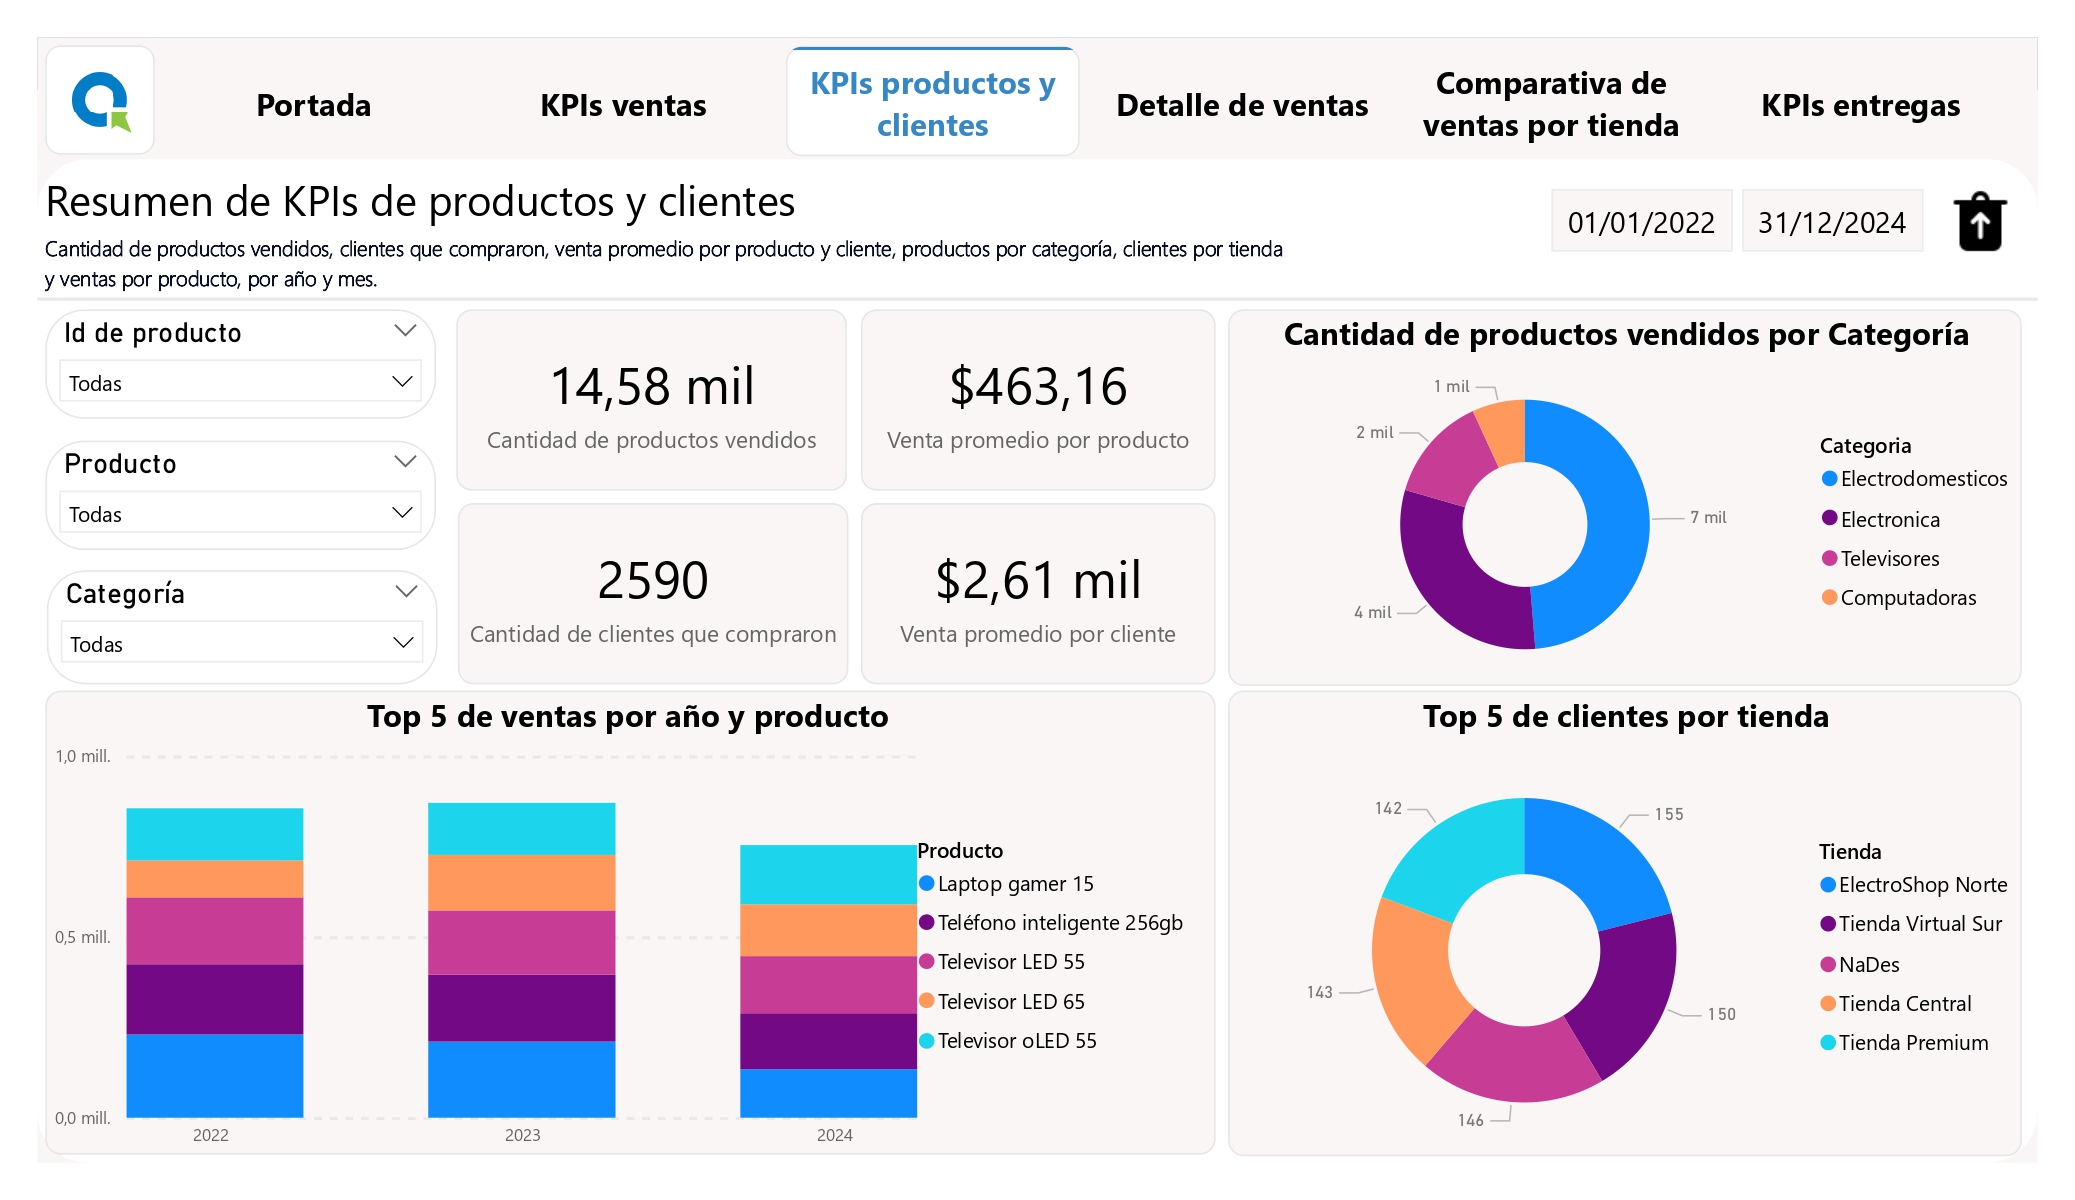

The dashboard page shown, as its layout file describes it:
{"tool":"powerbi","page":{"name":"KPIs productos y clientes","canvas":[1280,720],"ordinal":2},"visuals":[{"type":"shape","box":[0,78.3,1280,641.7],"z":0},{"type":"pageNavigator","box":[82.7,5.8,1183.1,70],"z":1000},{"type":"image","box":[5.4,5.4,70,70],"z":2000},{"type":"textbox","title":"Resumen de KPIs de productos y clientes","box":[0,84.6,810,83.1],"z":3000},{"type":"shape","box":[0,162.3,1280,10.8],"z":4000},{"type":"card","fields":{"Values":["Fact_Ventas.Cantidad_Total"]},"box":[268,174,250,116],"z":5000},{"type":"card","fields":{"Values":["Fact_Ventas.Cantidad_Clientes_Compraro"]},"box":[268.8,297.5,250,116.2],"z":6000},{"type":"card","fields":{"Values":["Fact_Ventas.Venta Promedio por Producto"]},"box":[527,174,227,116],"z":7000},{"type":"card","fields":{"Values":["Fact_Ventas.Venta Promedio por cliente"]},"box":[527,298,227,116],"z":8000},{"type":"slicer","fields":{"Values":["Dim_Producto.IdProducto"]},"box":[5,174,250,70],"z":9000},{"type":"slicer","fields":{"Values":["Dim_Producto.Producto"]},"box":[5,258,250,70],"z":10000},{"type":"slicer","fields":{"Values":["Dim_Producto.Categoria"]},"box":[6.2,341.2,250,72.5],"z":11000},{"type":"donutChart","title":"Cantidad de productos vendidos por Categoría","fields":{"Y":["Fact_Ventas.Cantidad_Total"],"Category":["Dim_Producto.Categoria"]},"box":[761.8,173.6,508.2,240.9],"z":12000},{"type":"columnChart","title":"Top 5 de ventas por año y producto","fields":{"Category":["Dim_Tiempo.Tiempo_Key.Variación.Date Hierarchy.Year"],"Y":["Sum(Fact_Ventas.PrecioVenta_Total)"],"Series":["Dim_Producto.Descripcion"]},"box":[5.5,418.2,748.2,297.3],"z":13000},{"type":"donutChart","title":"Top 5 de clientes por tienda","fields":{"Category":["Fact_Ventas.Tienda"],"Y":["Fact_Ventas.Cantidad_Clientes_Compraron"]},"box":[762,418,508,298],"z":14000},{"type":"slicer","fields":{"Values":["Dim_Tiempo.Tiempo_Key"]},"box":[955.8,86.7,261.7,60],"z":15000},{"type":"image","box":[1216.7,91.7,53.3,50],"z":16000}]}

Visuals, with their boxes on the page's 1280x720 design canvas (x1, y1, x2, y2). These are canvas units, not pixel positions in the 2075x1200 screenshot, which may show the page scaled, cropped or inside an application window:
shape: 0, 78, 1280, 720
pageNavigator: 83, 6, 1266, 76
image: 5, 5, 75, 75
"Resumen de KPIs de productos y clientes" textbox: 0, 85, 810, 168
shape: 0, 162, 1280, 173
card - Fact_Ventas.Cantidad_Total: 268, 174, 518, 290
card - Fact_Ventas.Cantidad_Clientes_Compraro: 269, 298, 519, 414
card - Fact_Ventas.Venta Promedio por Producto: 527, 174, 754, 290
card - Fact_Ventas.Venta Promedio por cliente: 527, 298, 754, 414
slicer - Dim_Producto.IdProducto: 5, 174, 255, 244
slicer - Dim_Producto.Producto: 5, 258, 255, 328
slicer - Dim_Producto.Categoria: 6, 341, 256, 414
"Cantidad de productos vendidos por Categoría" donutChart: 762, 174, 1270, 414
"Top 5 de ventas por año y producto" columnChart: 6, 418, 754, 716
"Top 5 de clientes por tienda" donutChart: 762, 418, 1270, 716
slicer - Dim_Tiempo.Tiempo_Key: 956, 87, 1218, 147
image: 1217, 92, 1270, 142
